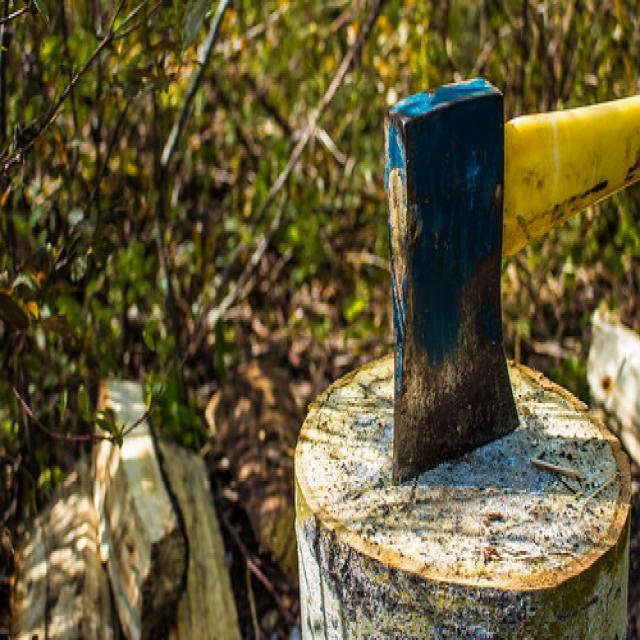Axe: (386, 79, 640, 482)
